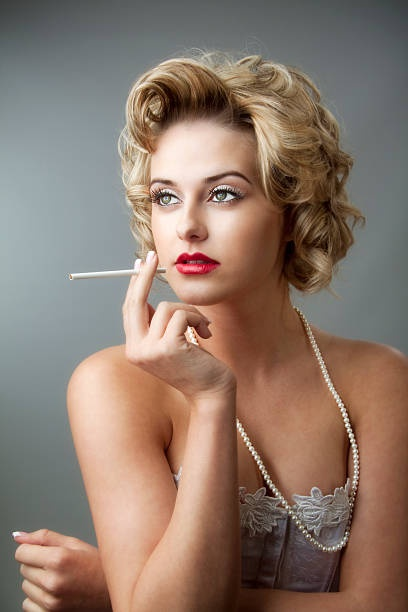sigaretta: (63, 257, 168, 289)
